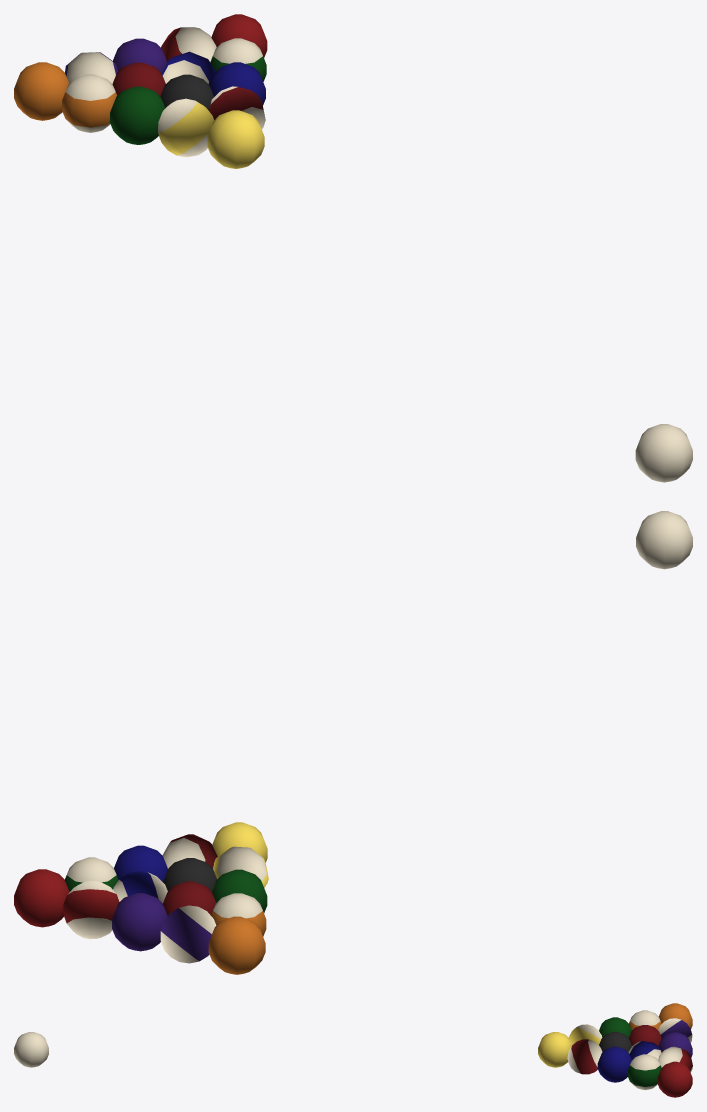
The model's file is LoungePoolBallsUV.fbx.
The picture shows the model from 3 angles, top to bottom: view 1: azimuth 30°, elevation 25°; view 2: azimuth 150°, elevation 25°; view 3: azimuth 270°, elevation 25°; orthographic projection. The views are drawn at different scales.
Parts seen in each view (by area): view 1: polySurface40; view 2: polySurface40; view 3: polySurface40.
Boxes of the visible parts, <box> form: polySurface40: <box>14,14,692,482</box>; polySurface40: <box>14,511,692,974</box>; polySurface40: <box>14,1003,692,1097</box>.
Size of the model in its own units: 56.56 by 12.04 by 222.
